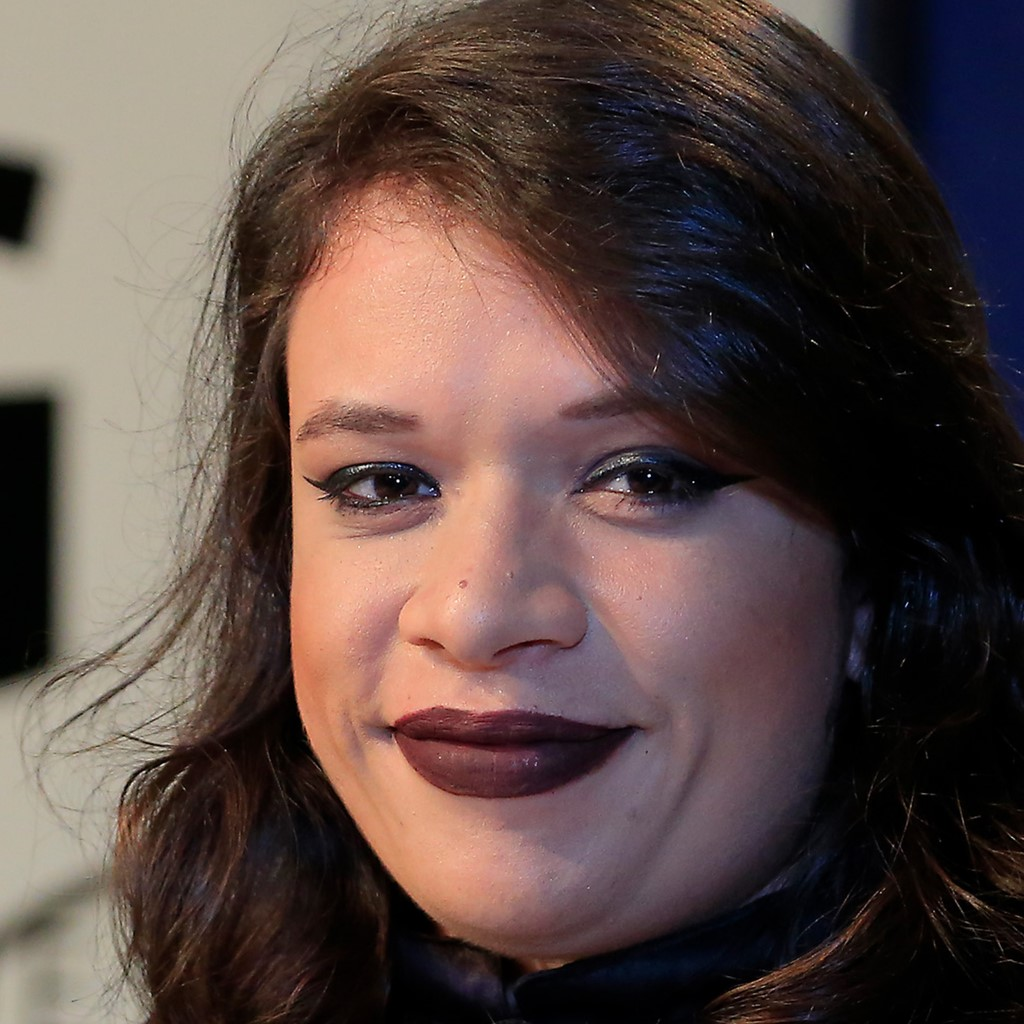sin_mascara: (276, 175, 854, 948)
